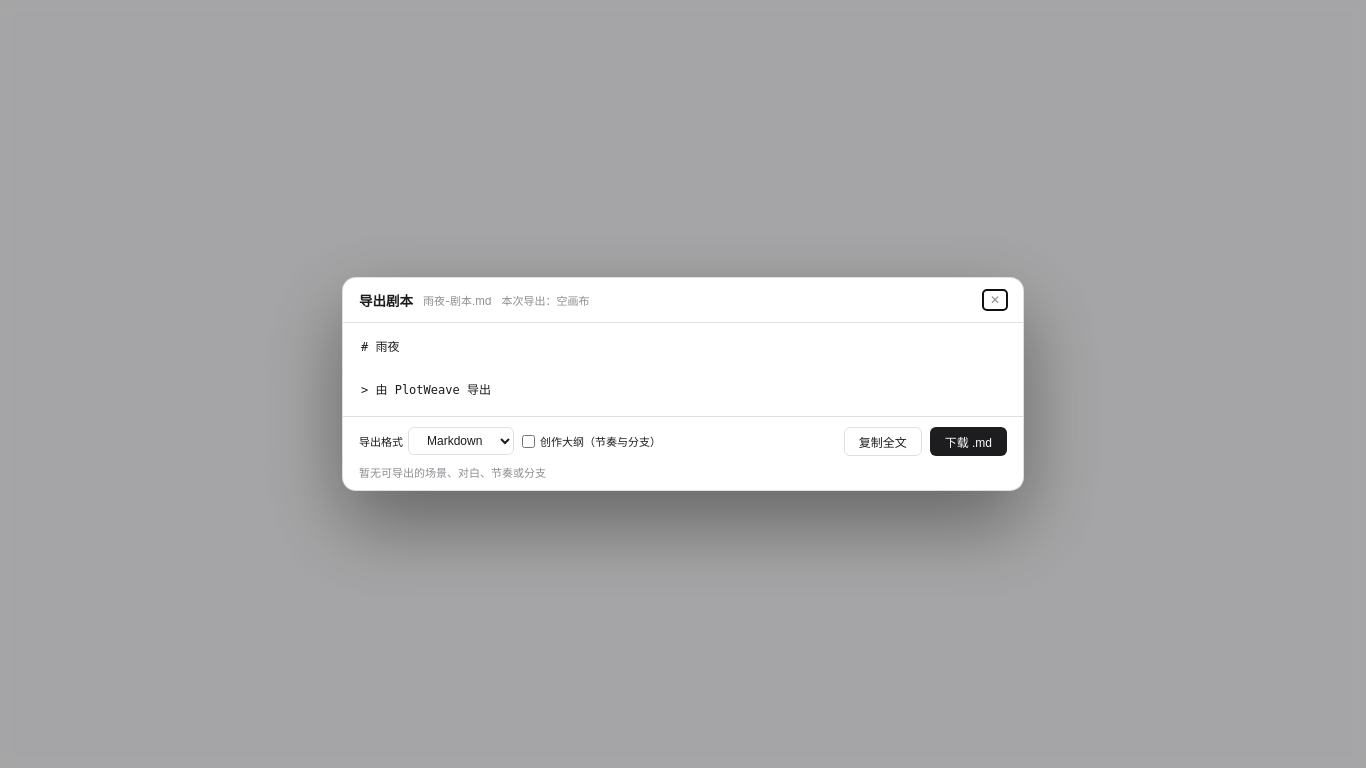
Test case: JSON 导出的复制与失败恢复 › 下载失败显示诊断并释放 URL，重试成功后清除诊断
Select "JSON" in the dropdown labelled "导出格式". click: (461, 441)
box: [408, 427, 514, 455]
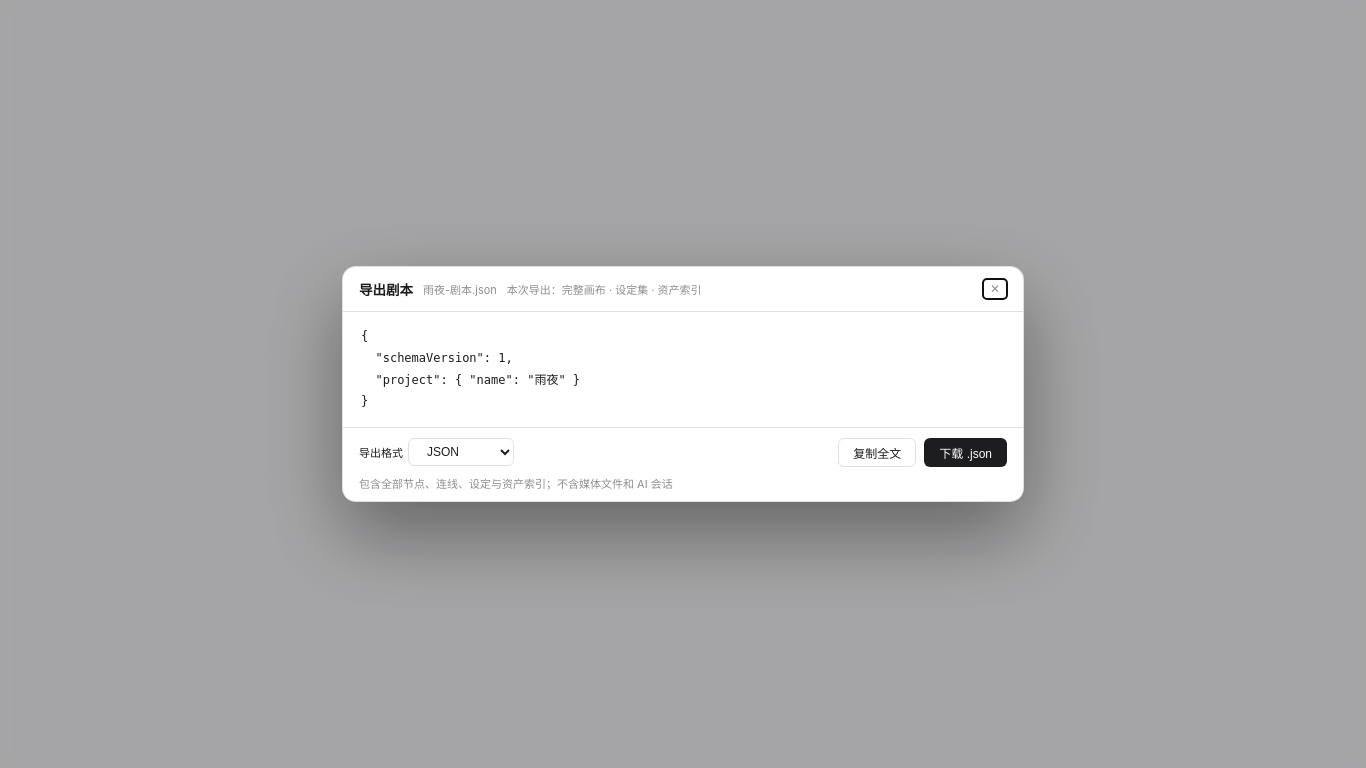
Click the button "下载 .json". click: (966, 452)
box: [924, 438, 1007, 467]
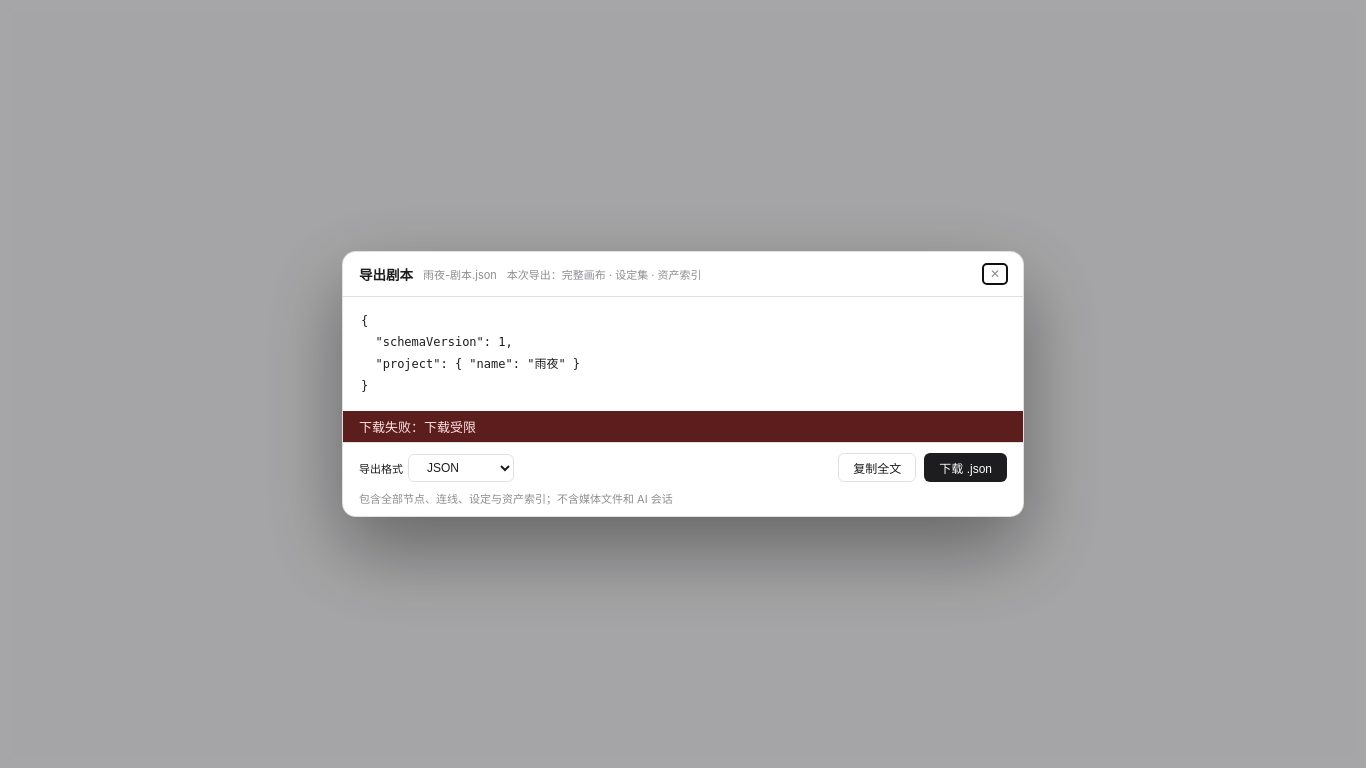
Result: the message shows "下载受限" at [359, 419, 476, 435]
Click the button "下载 .json". click: (966, 468)
box: [924, 453, 1007, 482]
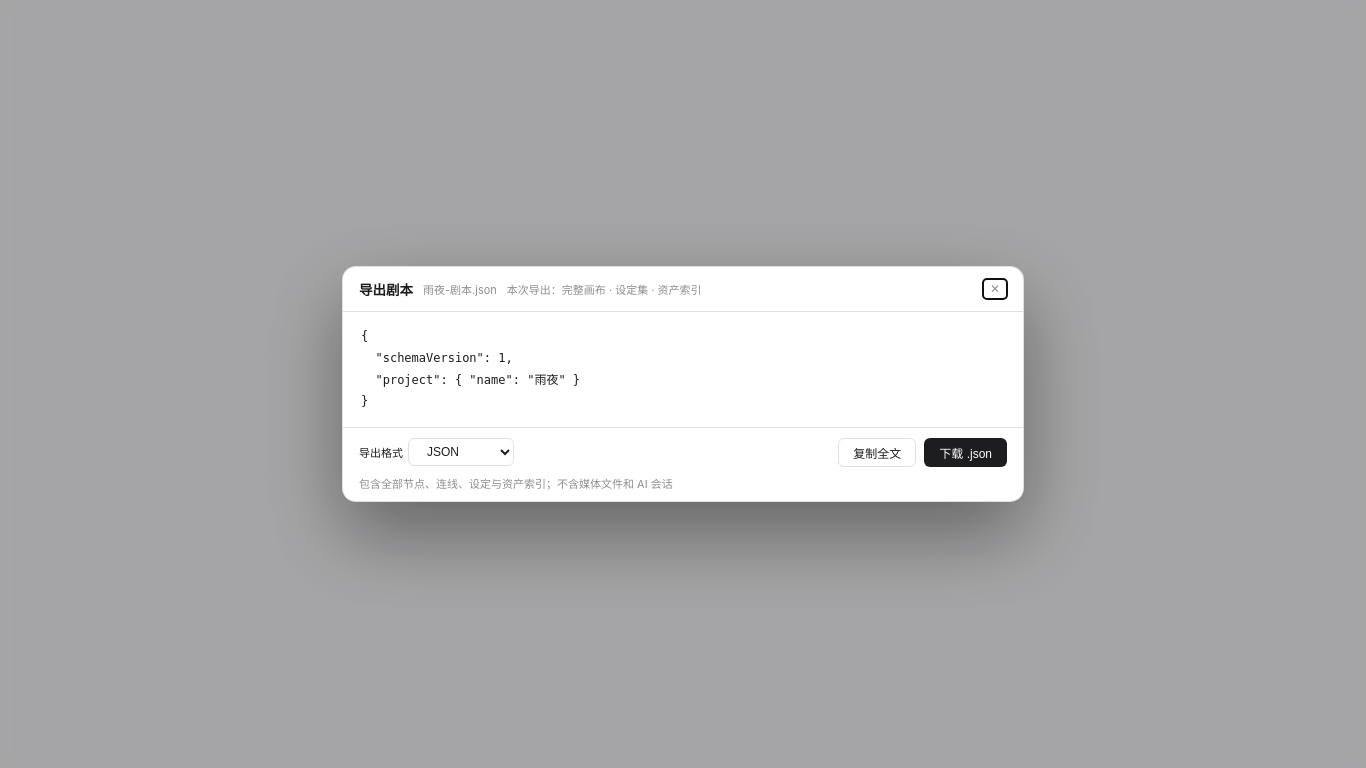
Result: the text "雨夜-剧本.json" is shown at [423, 281, 497, 297]
Result: the message "下载失败：下载受限" is gone
